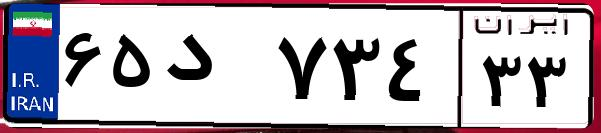3: (330, 28, 385, 110), (475, 38, 525, 113), (525, 38, 570, 115)
4: (385, 28, 445, 110)
5: (110, 28, 158, 98)
6: (57, 26, 110, 100)
7: (270, 28, 330, 110)
د: (158, 20, 270, 120)
